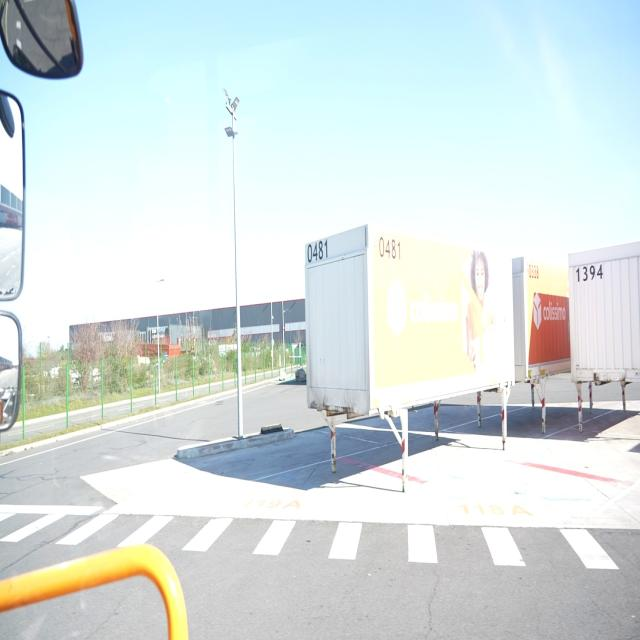Code: (302, 234, 335, 266), (374, 233, 401, 264), (571, 262, 605, 284), (525, 264, 540, 284)
